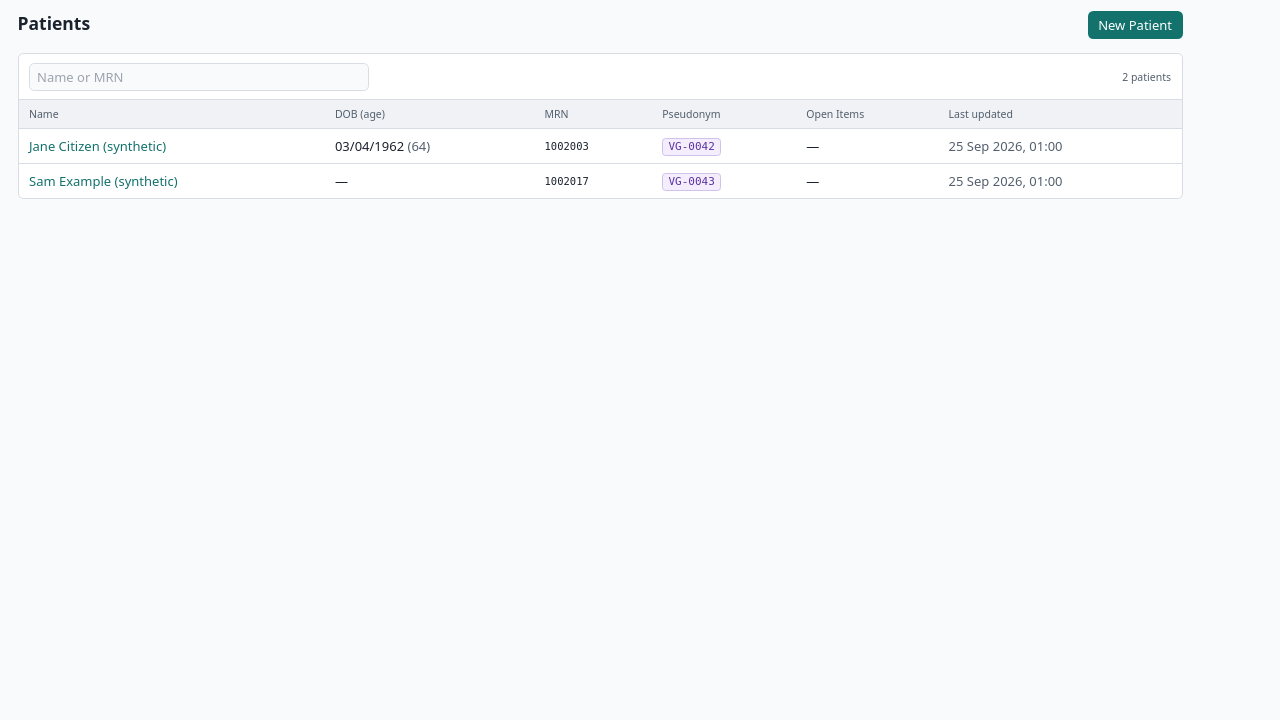
it: Patient List › shows why the backend refused
Click the button "New Patient": [1135, 25] box [1088,11,1182,39]
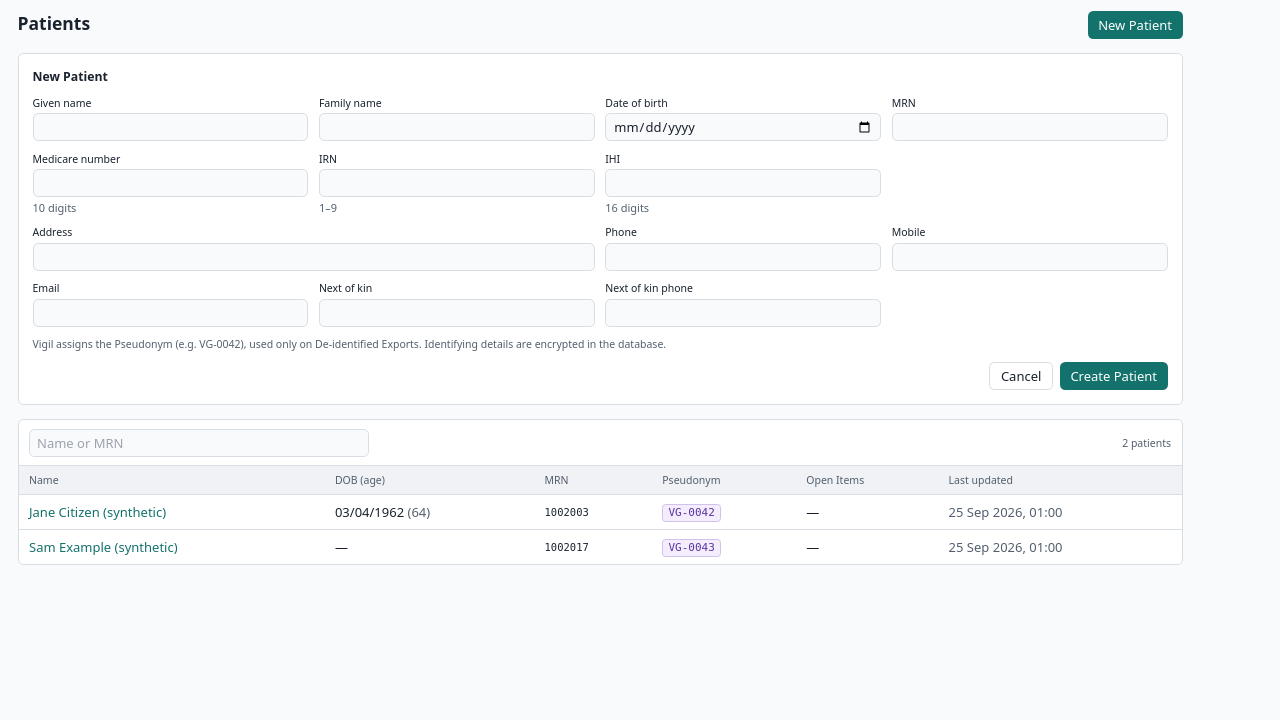
In the field labelled "Given name": [170, 127] box [32,113,308,141], type "Jane"
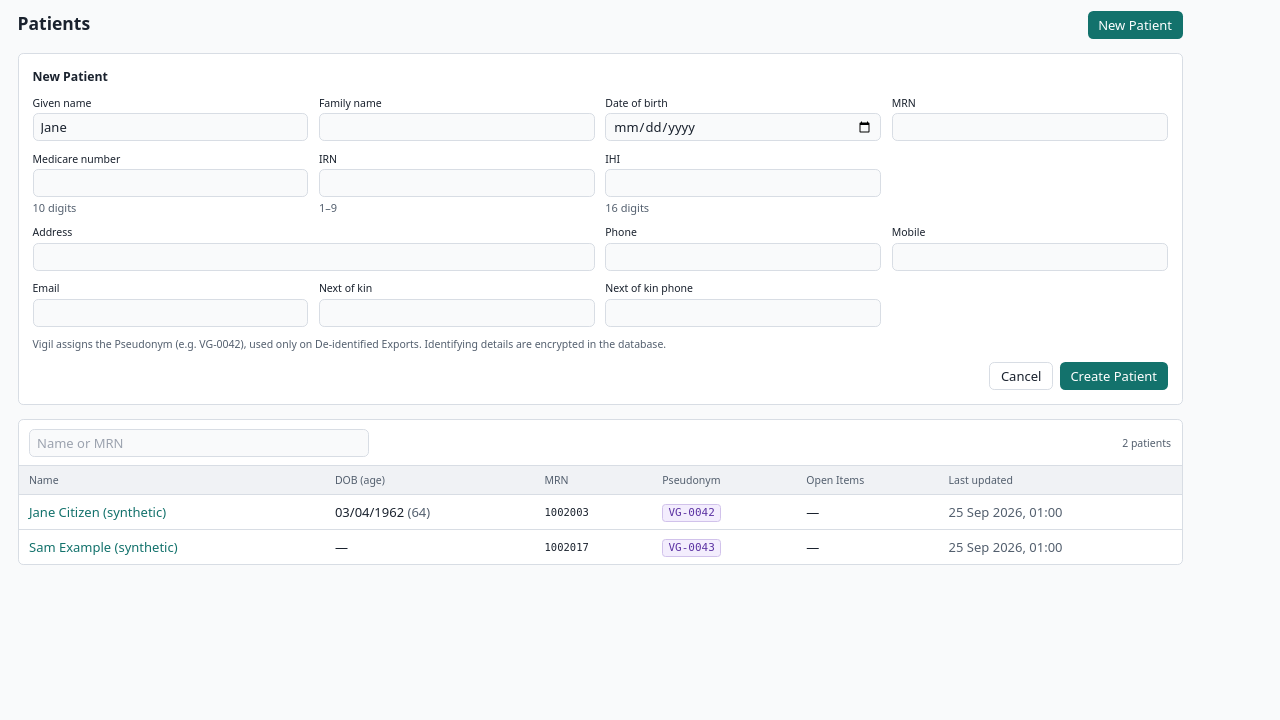
In the field labelled "Family name": [457, 127] box [319,113,595,141], type "Citizen"
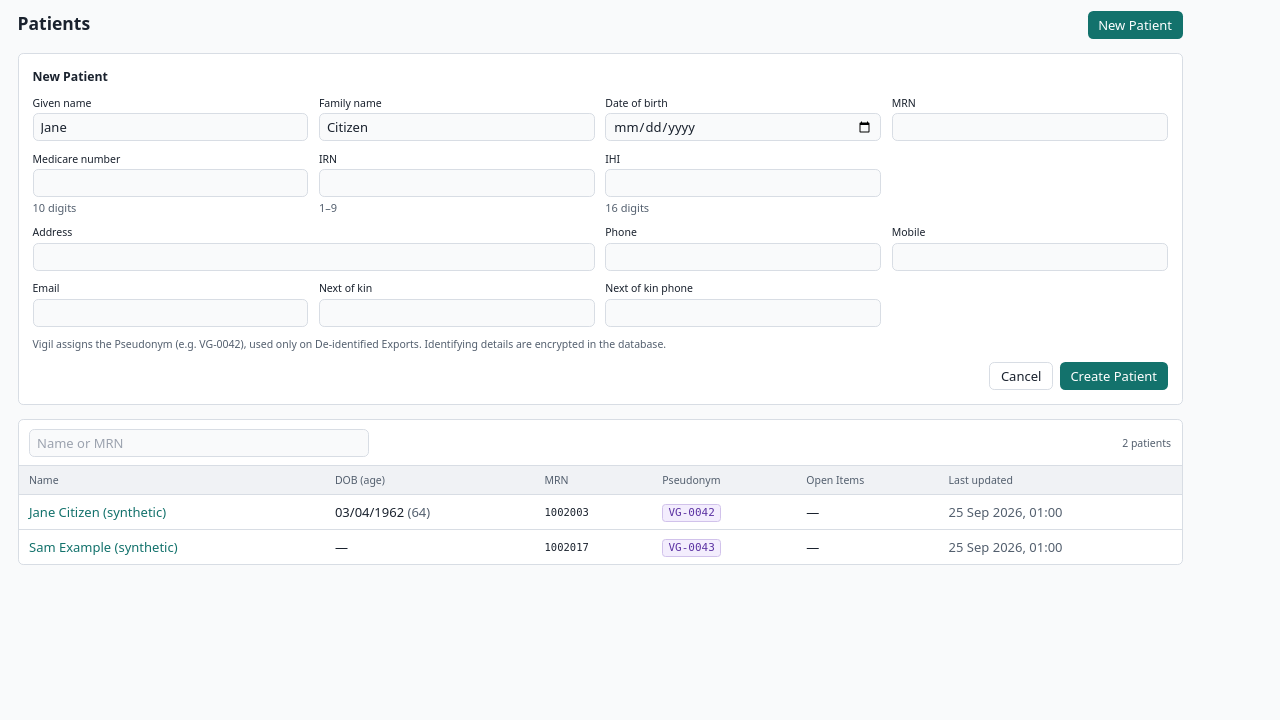
Submit the form "New Patient", box [18,53,1182,405]
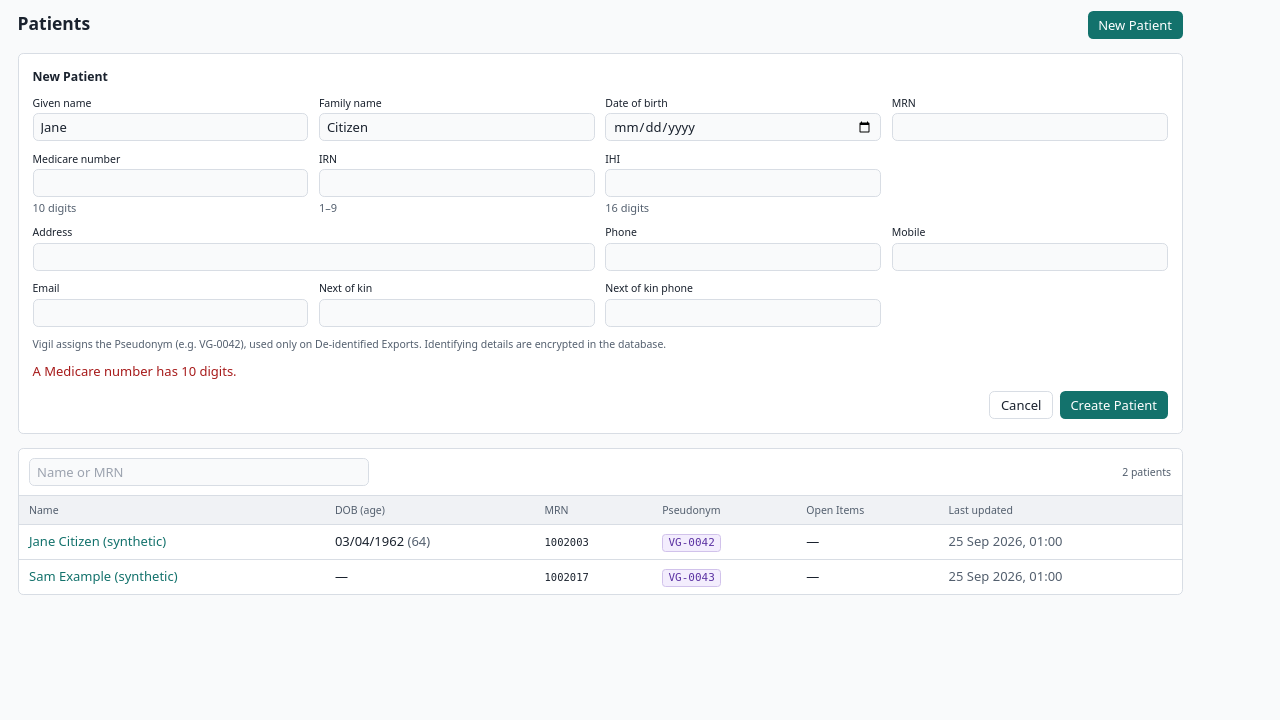
Expected: the message shows "10 digits", [32,362,237,380]
